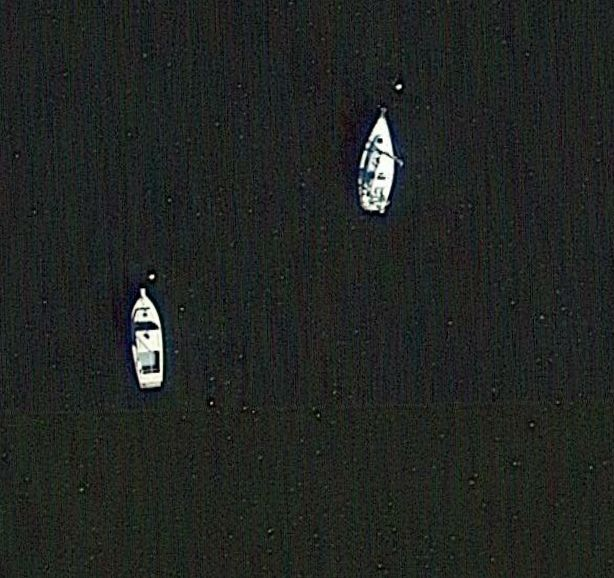boat: (354, 99, 400, 218), (125, 286, 171, 393)
